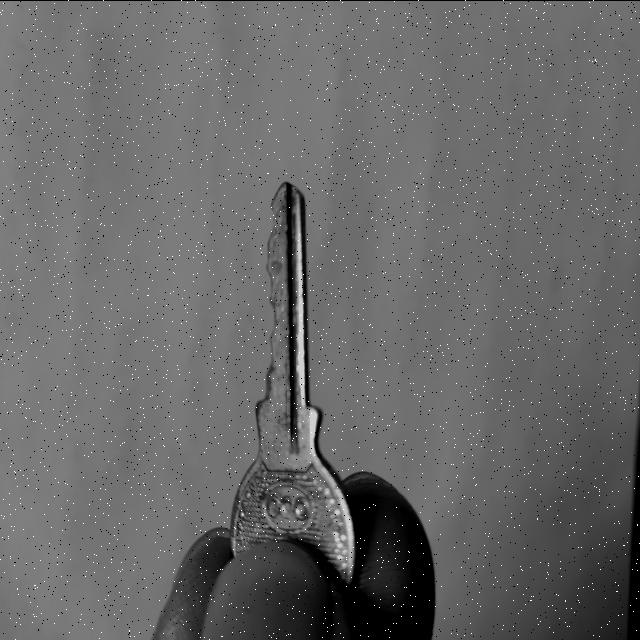key: (230, 182, 356, 587)
